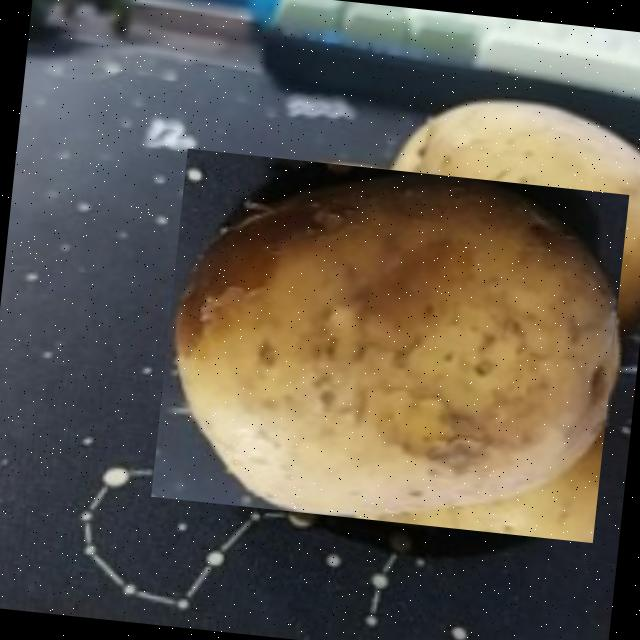Damaged potato: (151, 148, 628, 542)
Potato: (368, 91, 640, 314)
